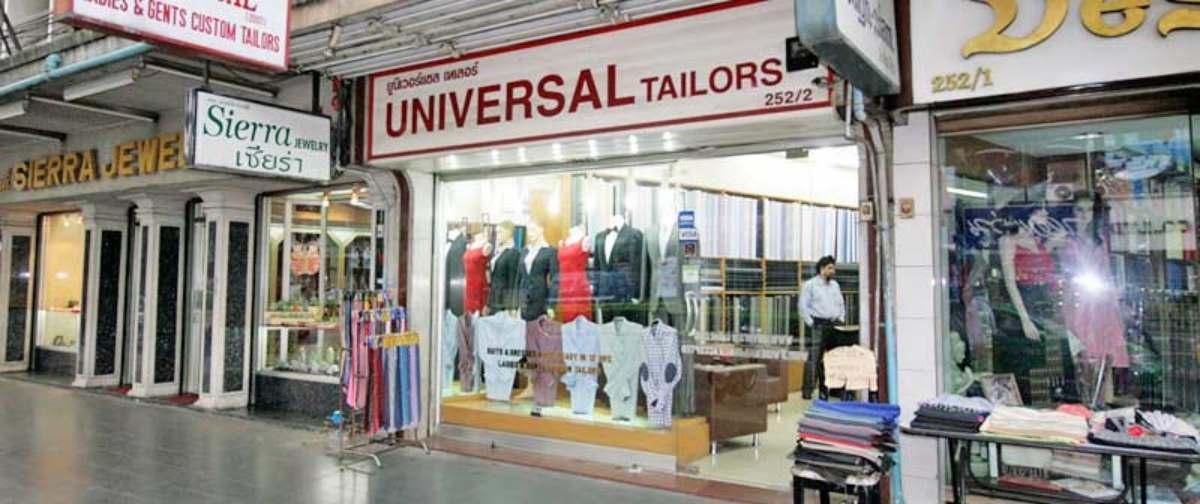text: (401, 61, 416, 140), (417, 61, 432, 140), (433, 61, 448, 140), (449, 61, 464, 140), (465, 61, 480, 140), (481, 61, 496, 140), (497, 61, 512, 140), (513, 61, 528, 140), (529, 61, 544, 140), (545, 61, 560, 140), (561, 61, 576, 140), (577, 61, 592, 140), (593, 61, 608, 140), (609, 61, 624, 140), (386, 61, 400, 140), (625, 61, 635, 140), (641, 56, 656, 103), (657, 56, 672, 103), (673, 56, 688, 103), (689, 56, 704, 103), (705, 56, 720, 103), (721, 56, 736, 103), (737, 56, 752, 103), (753, 56, 768, 103), (769, 56, 784, 103), (17, 148, 32, 193), (33, 148, 48, 193), (49, 148, 64, 193), (65, 148, 80, 193), (81, 148, 96, 193), (209, 104, 224, 149), (225, 104, 240, 149), (241, 104, 256, 149), (257, 104, 272, 149), (273, 104, 288, 149), (113, 134, 128, 179), (129, 134, 144, 179), (145, 134, 160, 179), (161, 134, 176, 179), (289, 140, 305, 176), (241, 140, 256, 176), (257, 140, 272, 176), (273, 140, 288, 176), (193, 10, 208, 44), (209, 10, 224, 44), (945, 64, 960, 95), (961, 64, 976, 95), (977, 64, 992, 95), (241, 23, 256, 53), (257, 23, 272, 53), (225, 10, 238, 44), (161, 1, 176, 29), (103, 134, 112, 179), (385, 71, 400, 97), (401, 71, 416, 97), (417, 71, 432, 97), (977, 214, 992, 238), (993, 214, 1008, 238), (1009, 214, 1024, 238), (1025, 214, 1040, 238), (1041, 214, 1056, 238), (1057, 214, 1072, 238), (449, 61, 464, 83), (934, 64, 944, 95), (149, 1, 160, 29), (177, 1, 188, 29), (465, 61, 479, 83), (769, 88, 784, 107), (785, 88, 800, 107), (497, 346, 512, 365), (513, 346, 528, 365), (529, 346, 544, 365), (545, 346, 560, 365), (561, 346, 576, 365), (577, 346, 592, 365), (593, 346, 608, 365), (305, 137, 320, 155), (497, 358, 512, 376), (513, 358, 528, 376), (529, 358, 544, 376), (545, 358, 560, 376), (561, 358, 576, 376), (577, 358, 592, 376), (965, 214, 976, 238), (801, 88, 814, 107), (273, 23, 281, 53), (801, 344, 817, 359), (1121, 220, 1136, 236), (1137, 220, 1152, 236), (1153, 220, 1168, 236), (1169, 220, 1184, 236), (705, 344, 720, 359), (721, 344, 736, 359), (737, 344, 752, 359), (753, 344, 768, 359), (769, 344, 784, 359), (785, 344, 800, 359), (705, 329, 720, 344), (721, 329, 736, 344), (737, 329, 752, 344), (753, 329, 768, 344), (769, 329, 784, 344), (293, 137, 304, 155), (691, 329, 704, 344), (692, 344, 704, 359), (244, 10, 256, 25), (235, 140, 240, 176), (133, 1, 144, 17), (1109, 220, 1120, 236), (487, 346, 496, 365), (257, 10, 268, 25), (433, 71, 439, 97), (321, 137, 329, 155), (289, 104, 292, 149), (785, 329, 794, 344), (993, 64, 997, 95), (1073, 214, 1078, 238), (1185, 220, 1192, 236), (443, 61, 448, 83), (593, 358, 599, 376), (609, 346, 614, 365), (14, 148, 16, 193), (97, 148, 98, 193), (207, 104, 208, 149), (177, 134, 178, 179), (766, 88, 768, 107), (494, 358, 496, 376), (191, 10, 192, 44)
